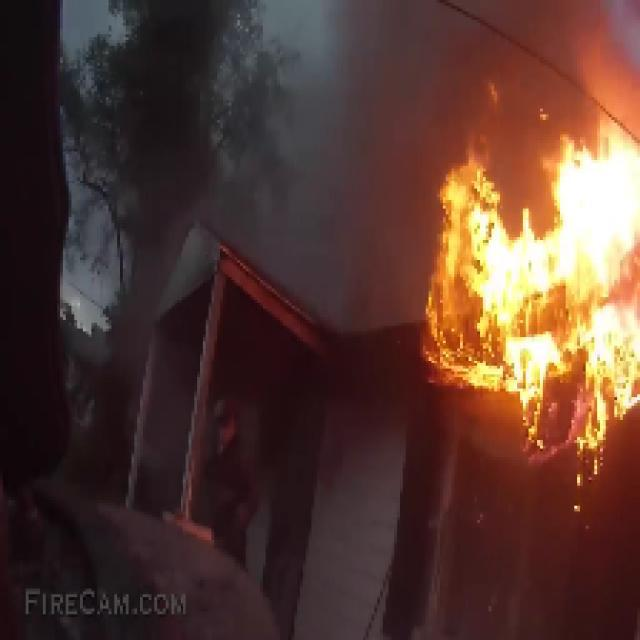Fire: (408, 28, 640, 520)
Smoke: (120, 12, 543, 374)
